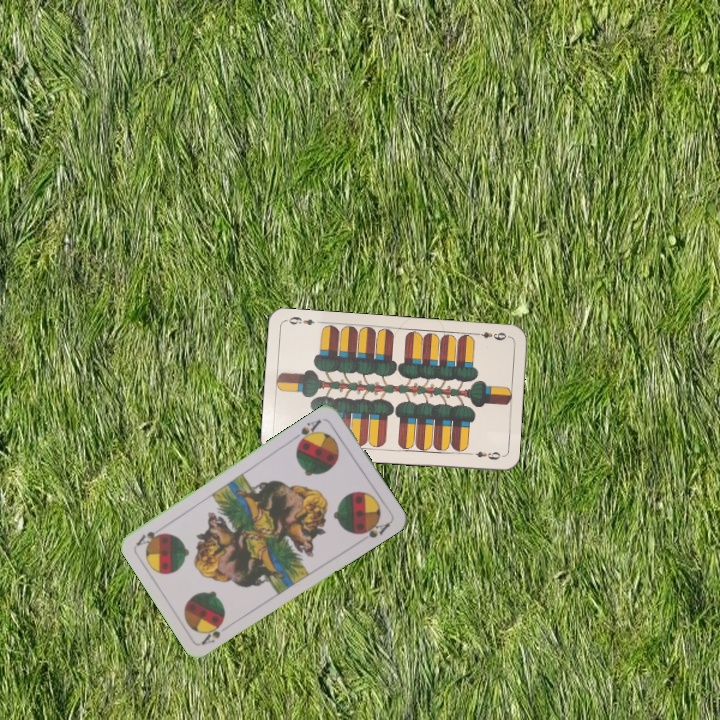E9: (471, 328, 512, 343)
SA: (290, 415, 324, 447), (197, 617, 227, 647)
